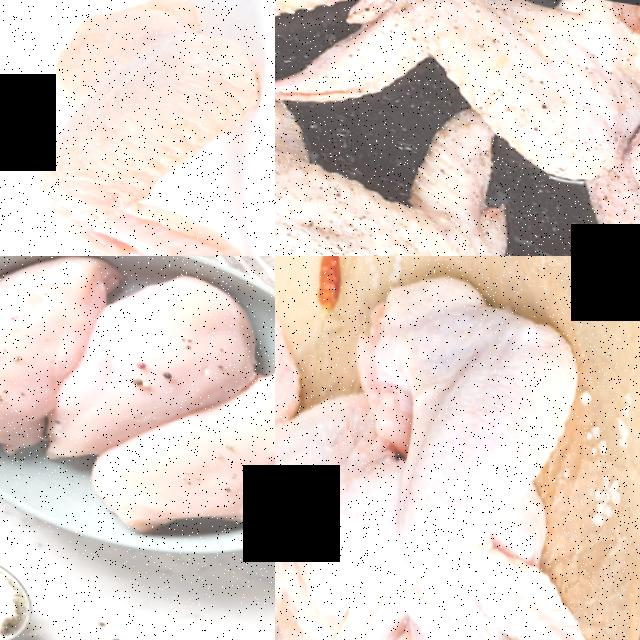chicken breast: (46, 256, 255, 440), (105, 393, 275, 587), (0, 256, 49, 440)
chicken wing: (325, 256, 637, 640), (0, 0, 275, 256), (275, 0, 640, 181), (275, 72, 511, 256), (383, 141, 640, 256)
